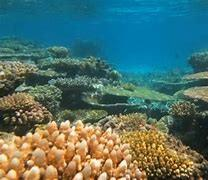bleached_corals: (0, 114, 208, 180)
